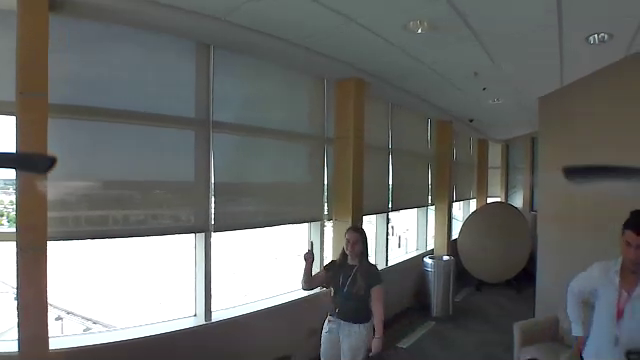up: (300, 235, 317, 267)
